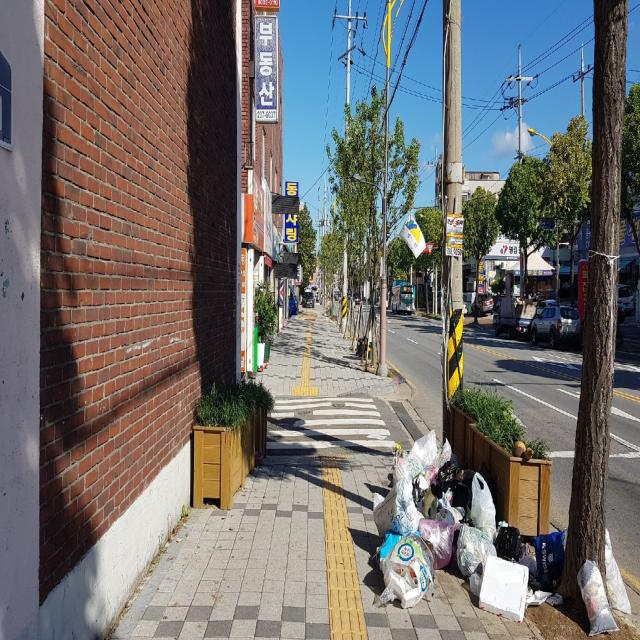횡단보도: (267, 396, 396, 451)
